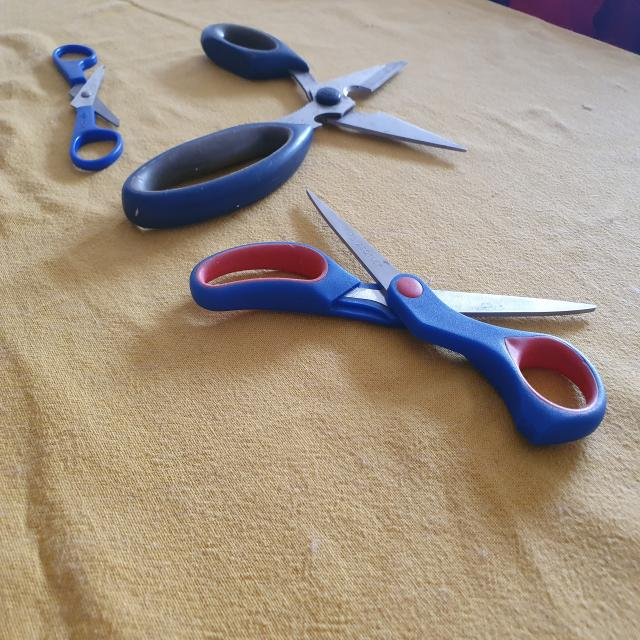scissors: (183, 194, 610, 456), (118, 22, 470, 231), (53, 39, 124, 172)
